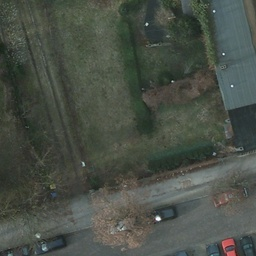car: (143, 205, 178, 227), (105, 214, 140, 234), (35, 232, 66, 254), (213, 187, 247, 207)
